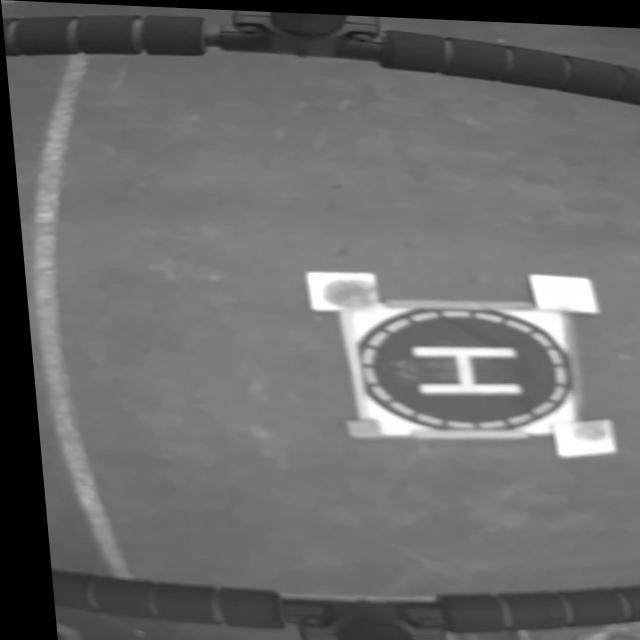Helipad: (402, 341, 517, 393)
